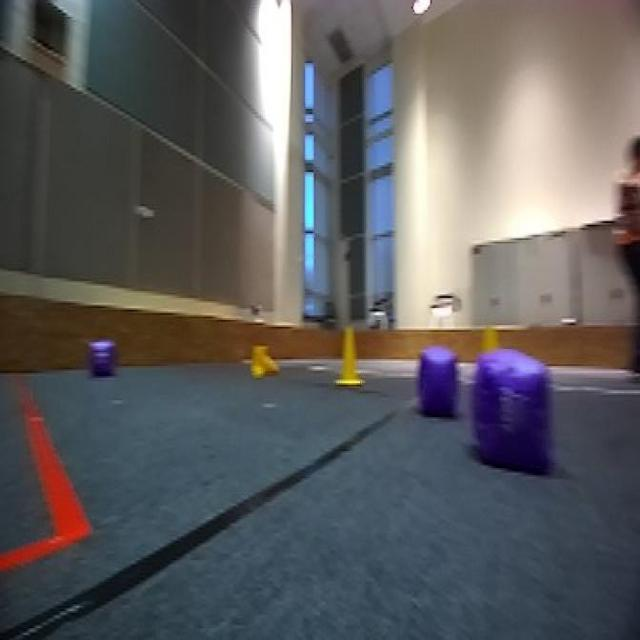frc_cone: (333, 325, 364, 392), (249, 342, 279, 378)
frc_cube: (469, 351, 554, 472), (413, 342, 464, 415), (87, 337, 117, 385)
